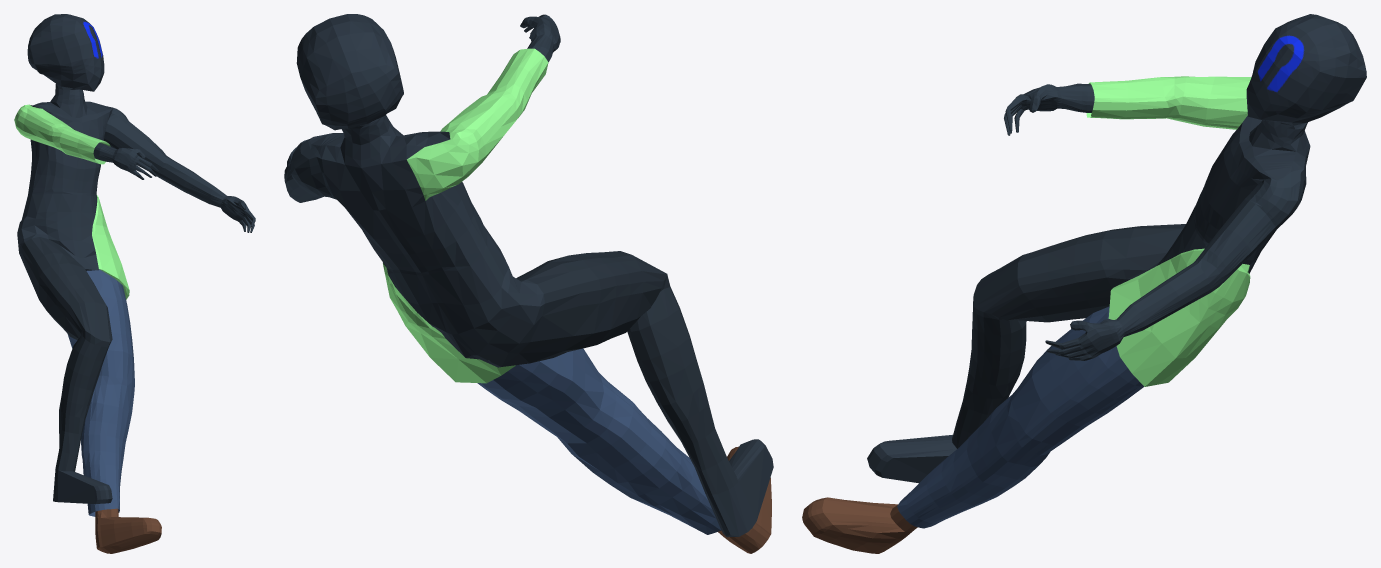
The model's file is Mar_Die_000009.obj.
3 renders of one model, left to right at view 1: azimuth 30°, elevation 25°; view 2: azimuth 150°, elevation 25°; view 3: azimuth 270°, elevation 25°, orthographic. The views are drawn at different scales.
Parts seen in each view (by area): view 1: Cube.000_Cube.001; view 2: Cube.000_Cube.001; view 3: Cube.000_Cube.001.
Part boxes in pixels (x1,y1,x2,y2): Cube.000_Cube.001: (14,14,255,553); Cube.000_Cube.001: (284,14,773,553); Cube.000_Cube.001: (802,14,1366,553).
Size of the model in its own units: 1.91 by 3.14 by 2.65.
